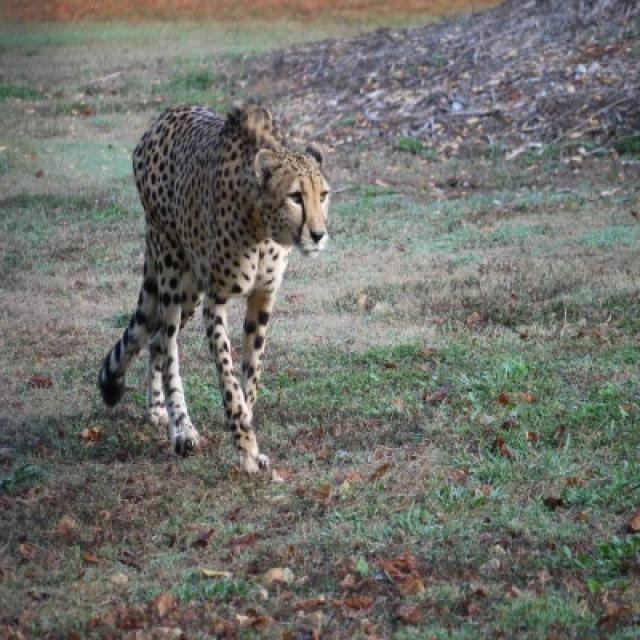Cheetah: (92, 93, 331, 451)
